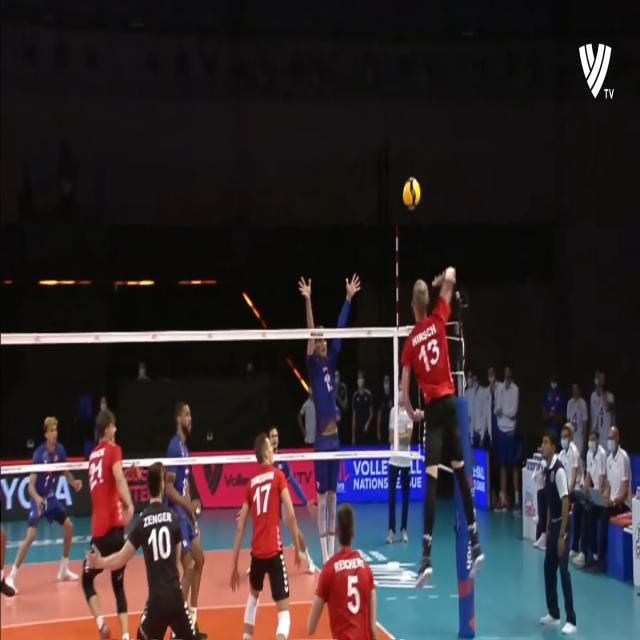player: (402, 265, 484, 585), (84, 466, 196, 640), (298, 274, 360, 573), (229, 434, 303, 640), (8, 413, 80, 590), (82, 406, 132, 640), (167, 397, 207, 640), (311, 504, 377, 640)
